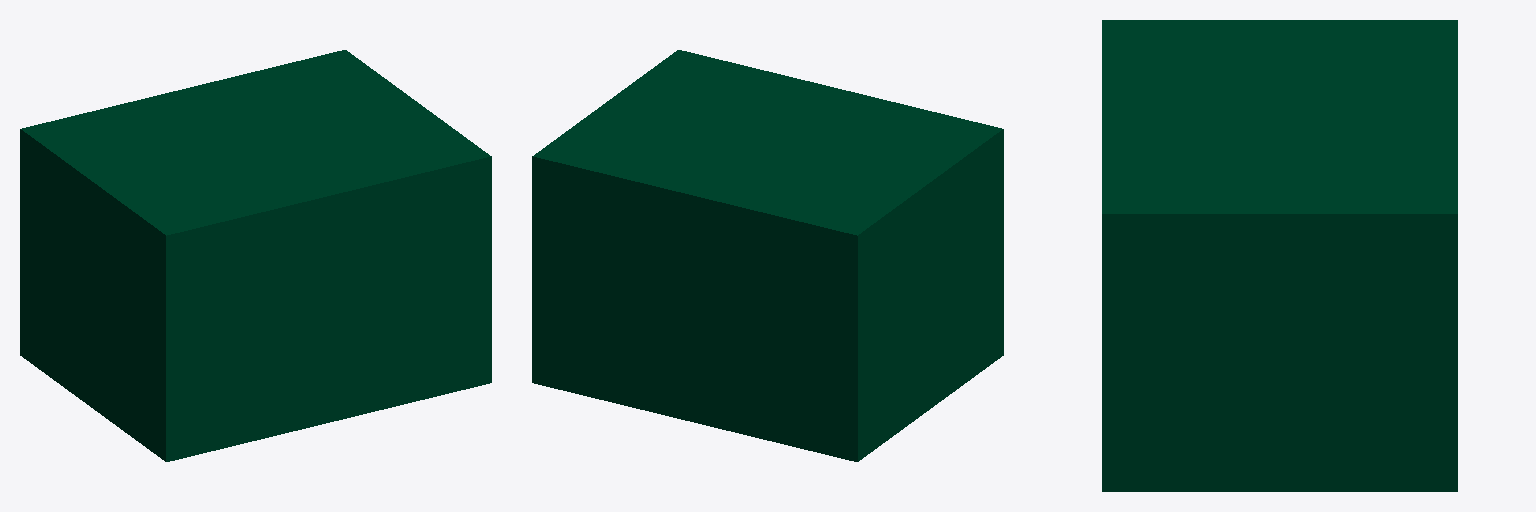
The robot description file, URDF, robot "random_box":
<?xml version='1.0' encoding='UTF-8'?>
<robot name="random_box">
  <link name="box">

    <inertial>
      <mass value="0.3"/>
      <origin xyz="0 0 0" rpy="0 0 0"/>
      <inertia ixx="0.1" ixy="0.1" ixz="0.1" iyy="0.1" iyz="0.1" izz="0.1"/>
    </inertial>

    <visual>
      <geometry>
        <box size="0.9 0.7 0.6"/>
      </geometry>
      <material name="color">
        <color rgba="0 0.3 0.2 1"/>
      </material>
    </visual>
    <collision>
      <geometry>
        <box size="0.9 0.7 0.6"/>
      </geometry>

      <surface>
        <friction>
          <ode>
            <mu>100000000.0</mu>
            <mu2>100000000.0</mu2>
          </ode>
        </friction>
        <contact>
          <ode>
            <min_depth>0.003</min_depth>
          </ode>
        </contact>
      </surface>

    </collision>

  </link>
</robot>

--- Render facts (derived) ---
Views: 3 orthographic renders of the robot side by side, from view 1: azimuth 30°, elevation 25°; view 2: azimuth 150°, elevation 25°; view 3: azimuth 270°, elevation 25°.
Model random_box with 1 links and 0 joints (none), rooted at box, posed all joints at 0.
Visible links, largest first — view 1: box; view 2: box; view 3: box.
Boxes of the visible links, x1=… form: box: x1=20, y1=50, x2=491, y2=461; box: x1=532, y1=50, x2=1003, y2=461; box: x1=1102, y1=20, x2=1457, y2=491.
Bounding box of the posed robot: 0.9 × 0.7 × 0.6 m (x, y, z).
Geometry: primitives only (box / cylinder / sphere), no mesh files.